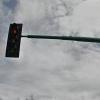Traffic light: (4, 15, 25, 67)
